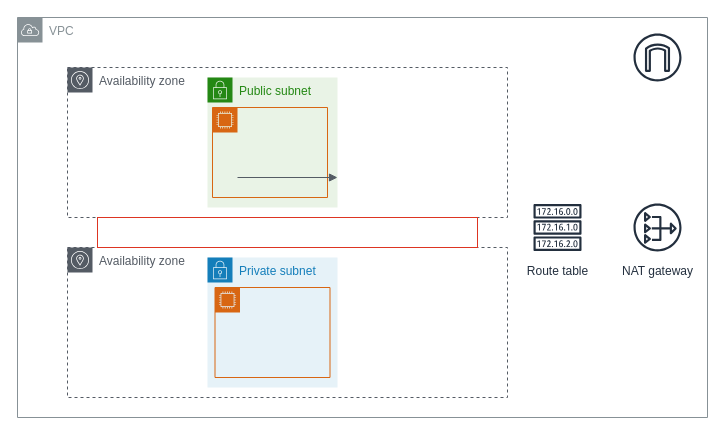
Some shapes in this 725 by 435 pixel diagram are drawn without their labels. Here are the shapes that lost their labels. From the top down, the centre of each, then its label:
At pixel 657 57: "Internet gateway".
At pixel 270 152: "EC2 instance with Java API".
At pixel 287 232: "Security group allowing public subnet to talk to private subnet".
At pixel 272 332: "EC2 instance with Postgres DB".
